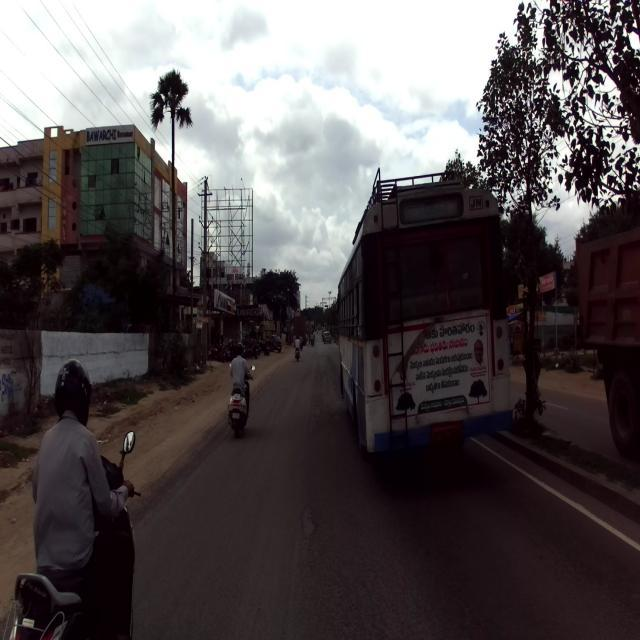Pothole: (294, 501, 324, 542)
